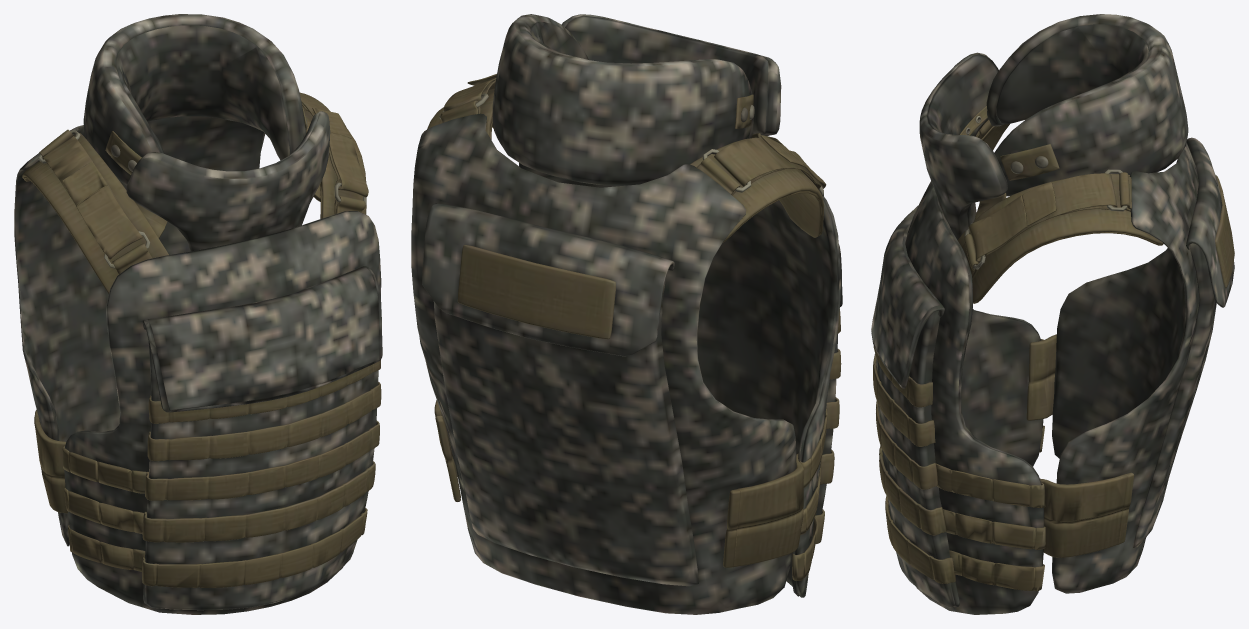
Rendered from heavy_armor.162653e88f.glb.
3 views of the same model, side by side, from view 1: azimuth 30°, elevation 25°; view 2: azimuth 150°, elevation 25°; view 3: azimuth 270°, elevation 25° (orthographic). The views are drawn at different scales.
Parts seen in each view (by area): view 1: heavy_armor_0, heavy_armor_4, heavy_armor_1, heavy_armor_3, heavy_armor_5; view 2: heavy_armor_0, heavy_armor_5, heavy_armor_1, heavy_armor_4, heavy_armor_3; view 3: heavy_armor_0, heavy_armor_4, heavy_armor_1, heavy_armor_5, heavy_armor_3.
Boxes of the visible parts, x1,y1,x2,y2 form: heavy_armor_0: (14, 116, 381, 614); heavy_armor_4: (22, 92, 381, 587); heavy_armor_1: (83, 14, 330, 251); heavy_armor_3: (142, 266, 382, 412); heavy_armor_5: (143, 341, 378, 610); heavy_armor_0: (411, 113, 841, 614); heavy_armor_5: (433, 276, 837, 586); heavy_armor_1: (492, 14, 781, 185); heavy_armor_4: (427, 74, 841, 580); heavy_armor_3: (422, 203, 842, 356); heavy_armor_0: (905, 142, 1199, 614); heavy_armor_4: (873, 106, 1234, 591); heavy_armor_1: (919, 14, 1188, 239); heavy_armor_5: (876, 243, 1216, 607); heavy_armor_3: (871, 137, 1234, 388).
Bounding box in the file's own units: 0.3806 × 0.6 × 0.3782.
Materials: 7 (7 with a texture image).
